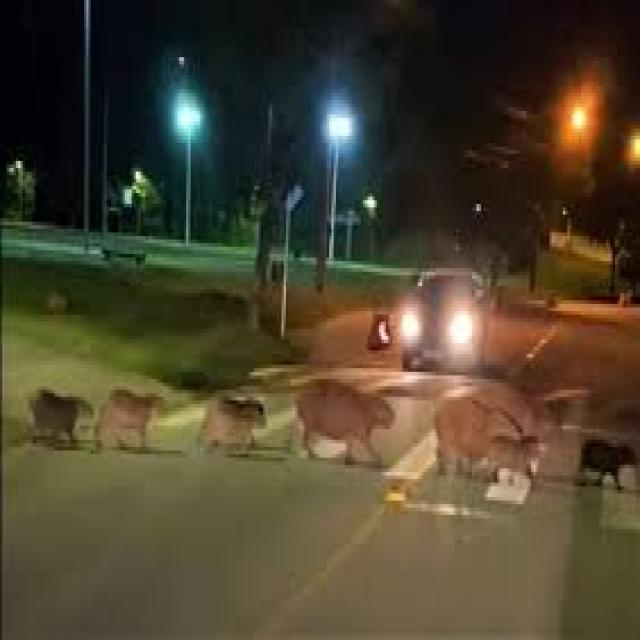capy: (296, 376, 397, 468), (439, 396, 520, 486), (26, 386, 94, 453), (198, 392, 266, 459), (98, 386, 167, 452), (494, 434, 536, 480)
